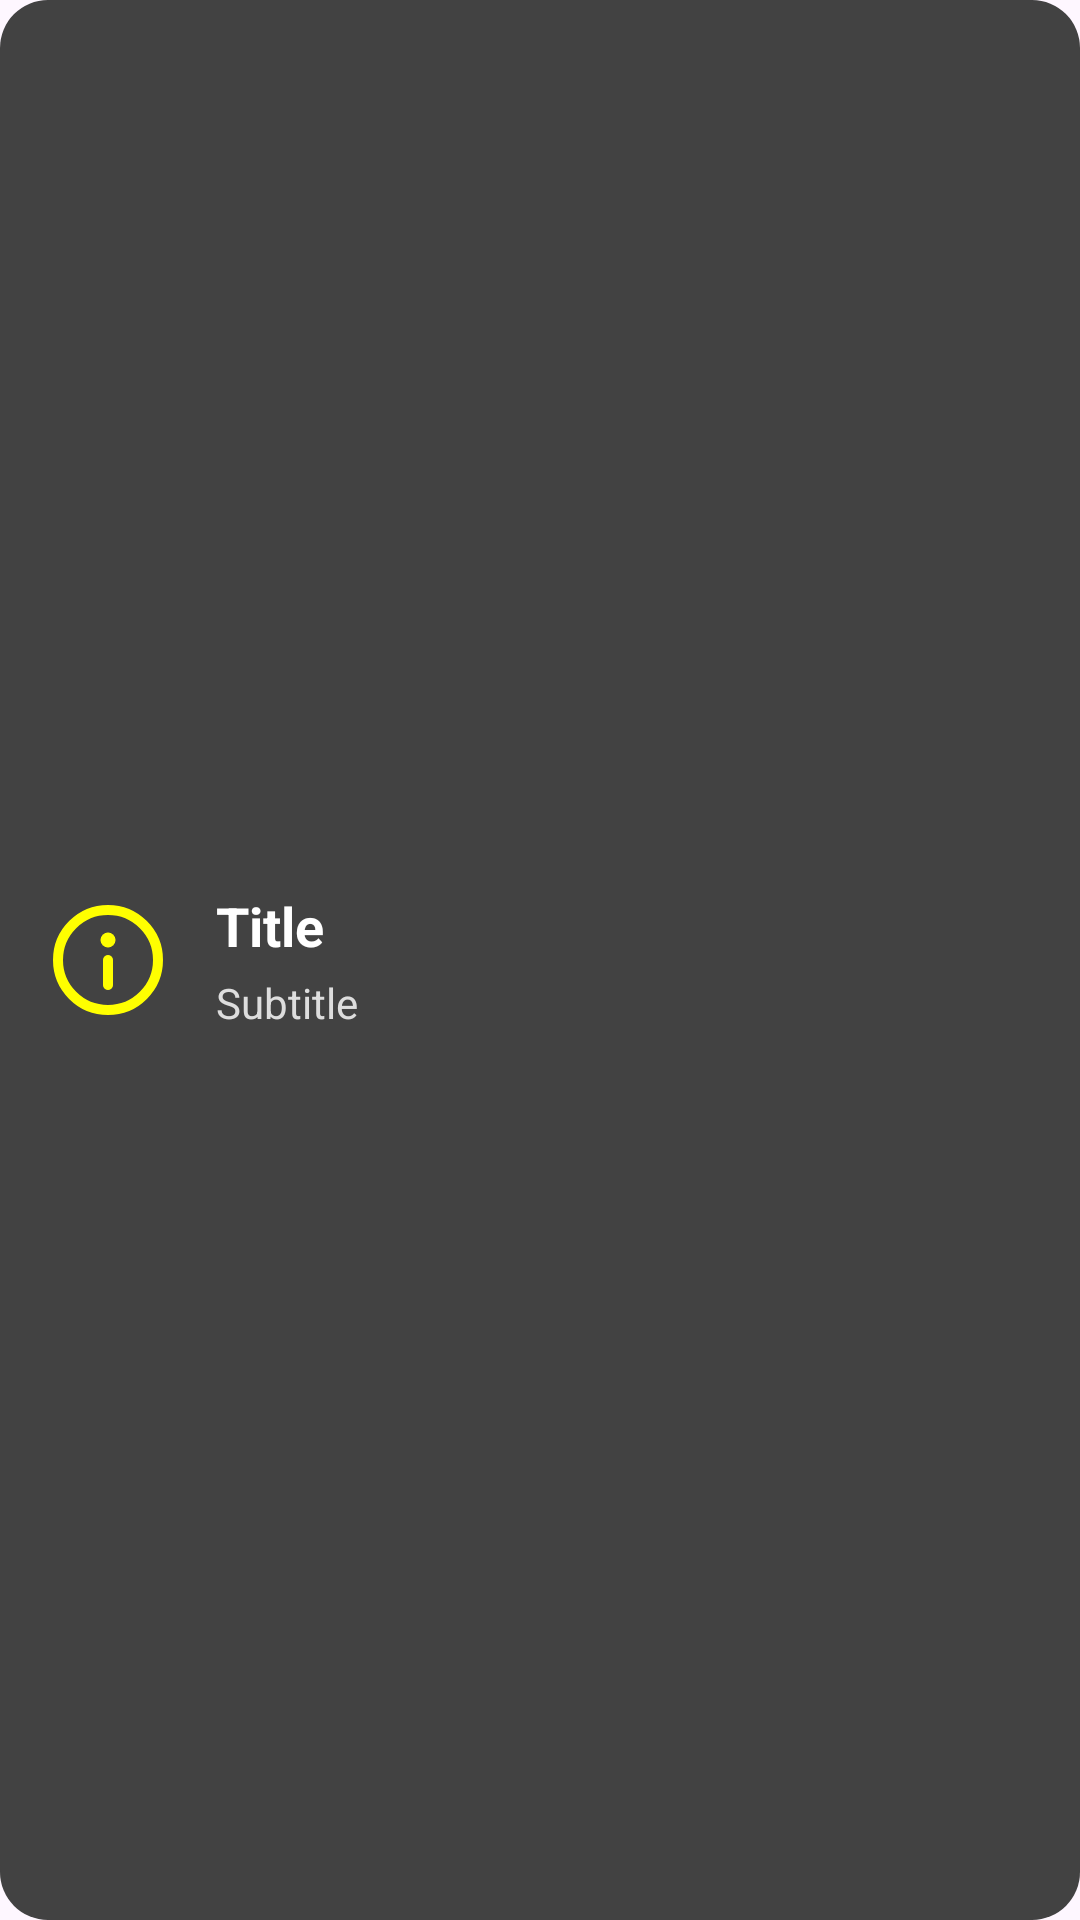

Where to tap for icons on this 1080x1920 app screen, as (x=x, y=y):
toast info: (x=108, y=960)
